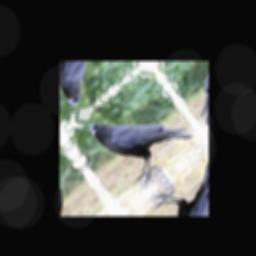Crow: (85, 75, 200, 196)
